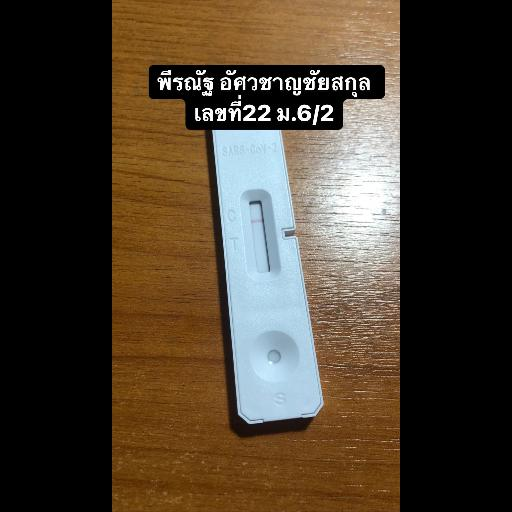Neg: (212, 129, 326, 425)
